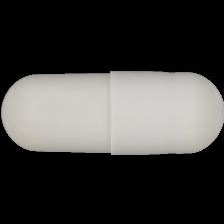50090-0633: (0, 0, 224, 224)
